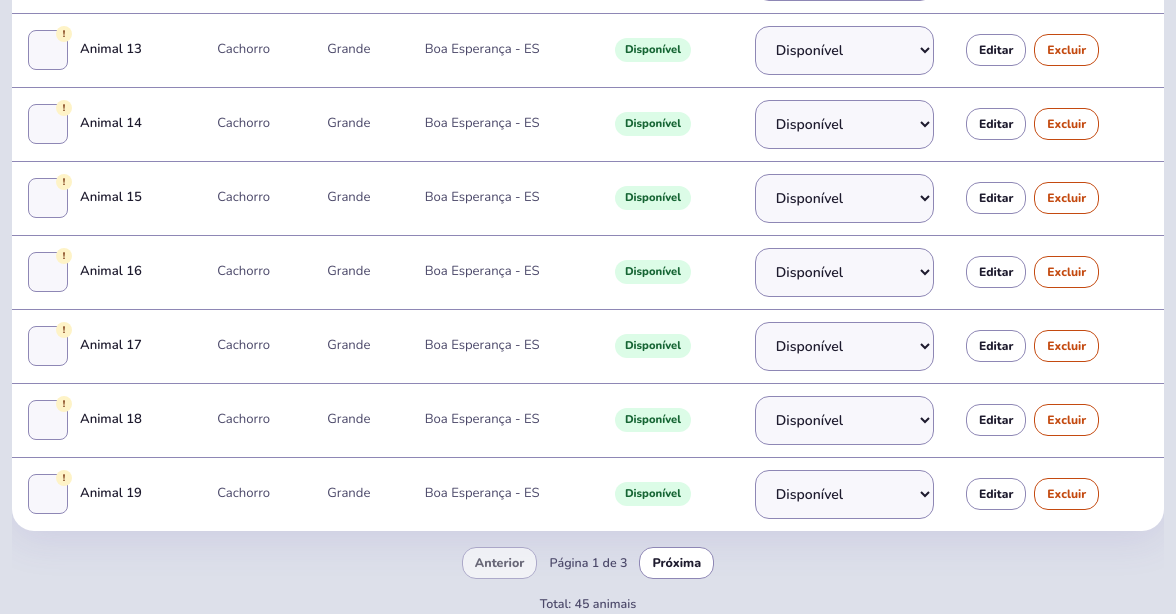
Test case: paginação › CT-26/CA-08: 45 animais em três páginas, cada um exibido exatamente uma vez
(page scrolled)
Expected: the text "Página 1 de 3" is shown, [550,554,628,572]
Click the button "Próxima".
click(677, 563)  # box [639,546,714,579]
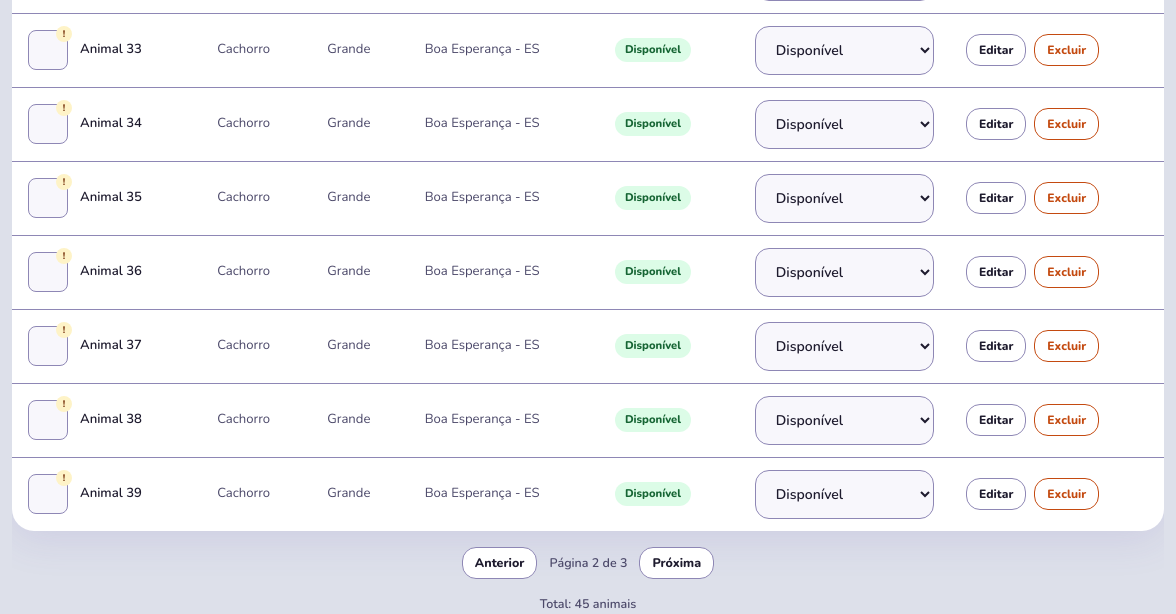
Click the button "Próxima".
click(677, 563)  # box [639,546,714,579]
(page scrolled)
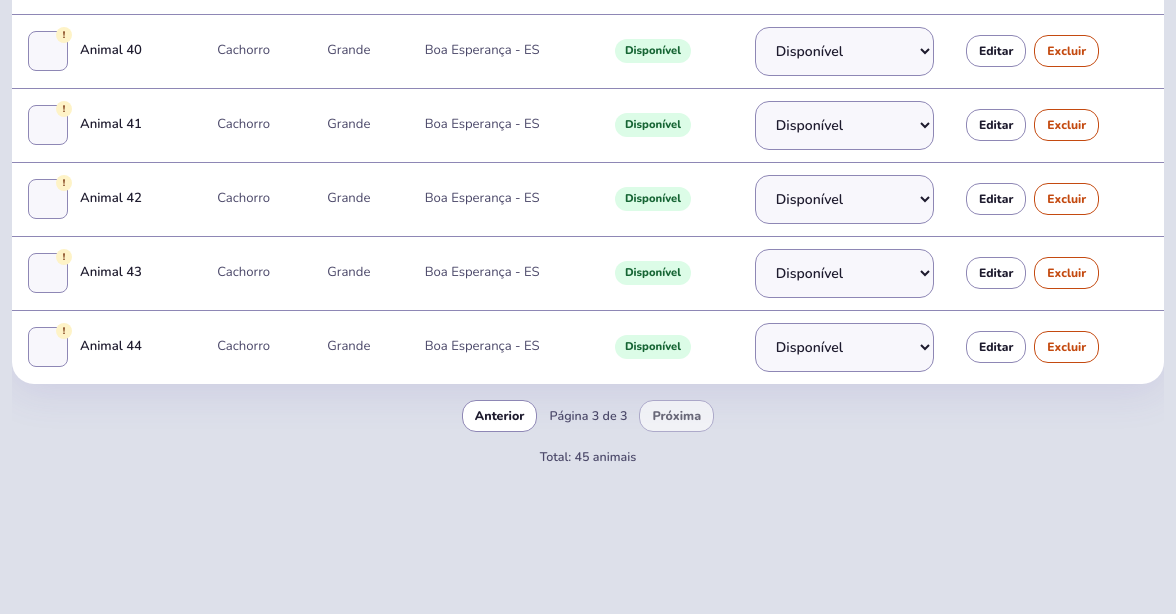
Expected: the text "Total: 45 animais" is shown, [540,448,636,465]
Expected: the button "Próxima" is disabled, [639,400,714,432]
